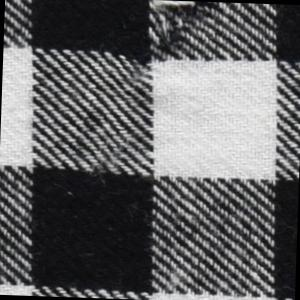Damage: (145, 1, 225, 64)
Wrinkle: (70, 63, 154, 175)
